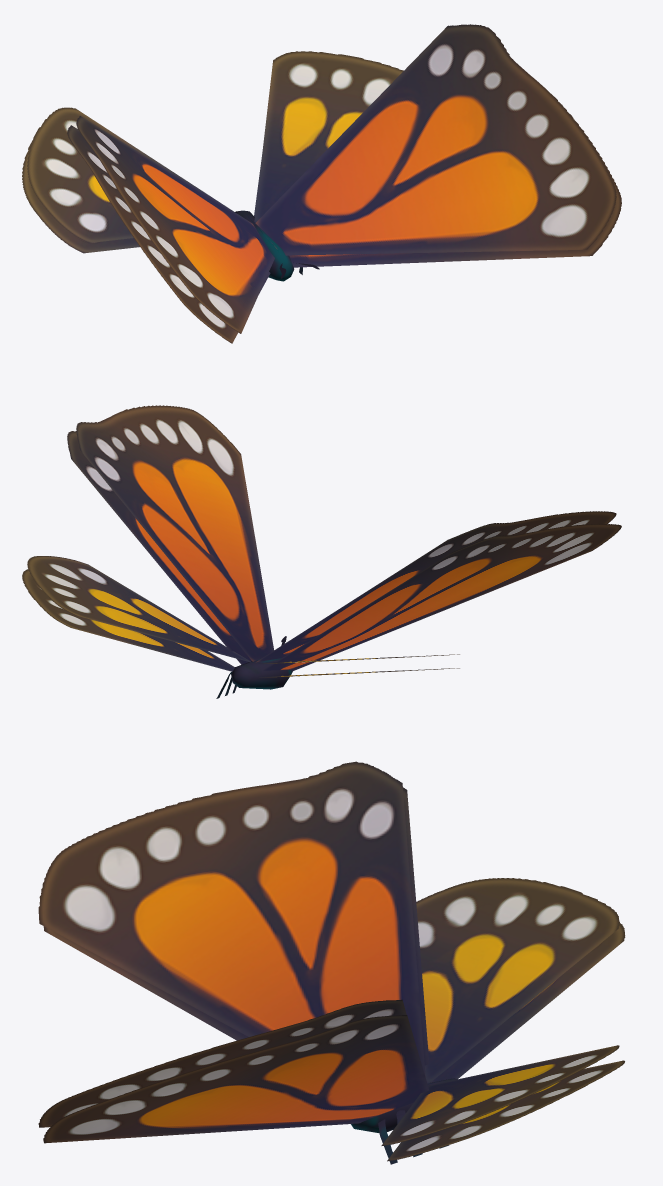
Rendered from SE_Butterfly_04.fbx.
3 renders of one model, top to bottom at view 1: azimuth 30°, elevation 25°; view 2: azimuth 150°, elevation 25°; view 3: azimuth 270°, elevation 25°, orthographic. The views are drawn at different scales.
Visible parts, largest first — view 1: SE_Butterfly_04; view 2: SE_Butterfly_04; view 3: SE_Butterfly_04.
Boxes of the visible parts, box(x1,y1,x2,y2) form: SE_Butterfly_04: box(22, 24, 621, 343); SE_Butterfly_04: box(22, 405, 621, 698); SE_Butterfly_04: box(38, 761, 625, 1164).
Size of the model in its own units: 1.6 by 0.7008 by 1.48.
